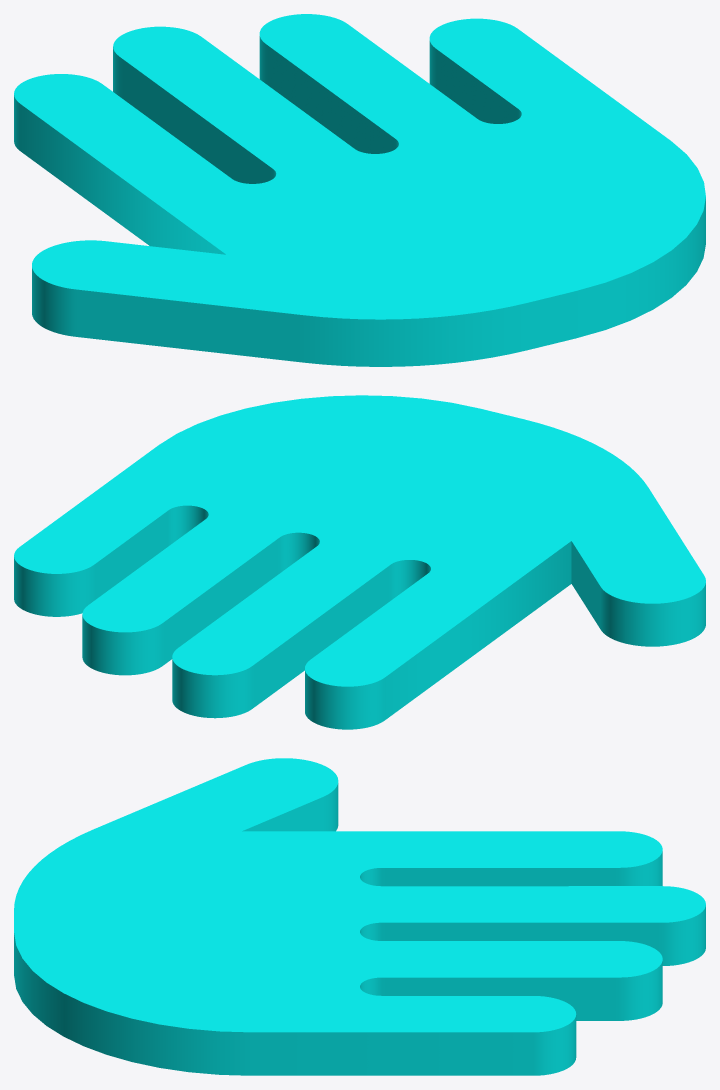
The picture shows the model from 3 angles, top to bottom: view 1: azimuth 30°, elevation 25°; view 2: azimuth 150°, elevation 25°; view 3: azimuth 270°, elevation 25°; orthographic projection. The views are drawn at different scales.
Visible parts, largest first — view 1: Curve; view 2: Curve; view 3: Curve.
Boxes of the visible parts, x1,y1,x2,y2 form: Curve: [14, 14, 705, 366]; Curve: [14, 395, 705, 729]; Curve: [14, 758, 705, 1075].
Size of the model in its own units: 0.1355 by 0.01 by 0.1445.
